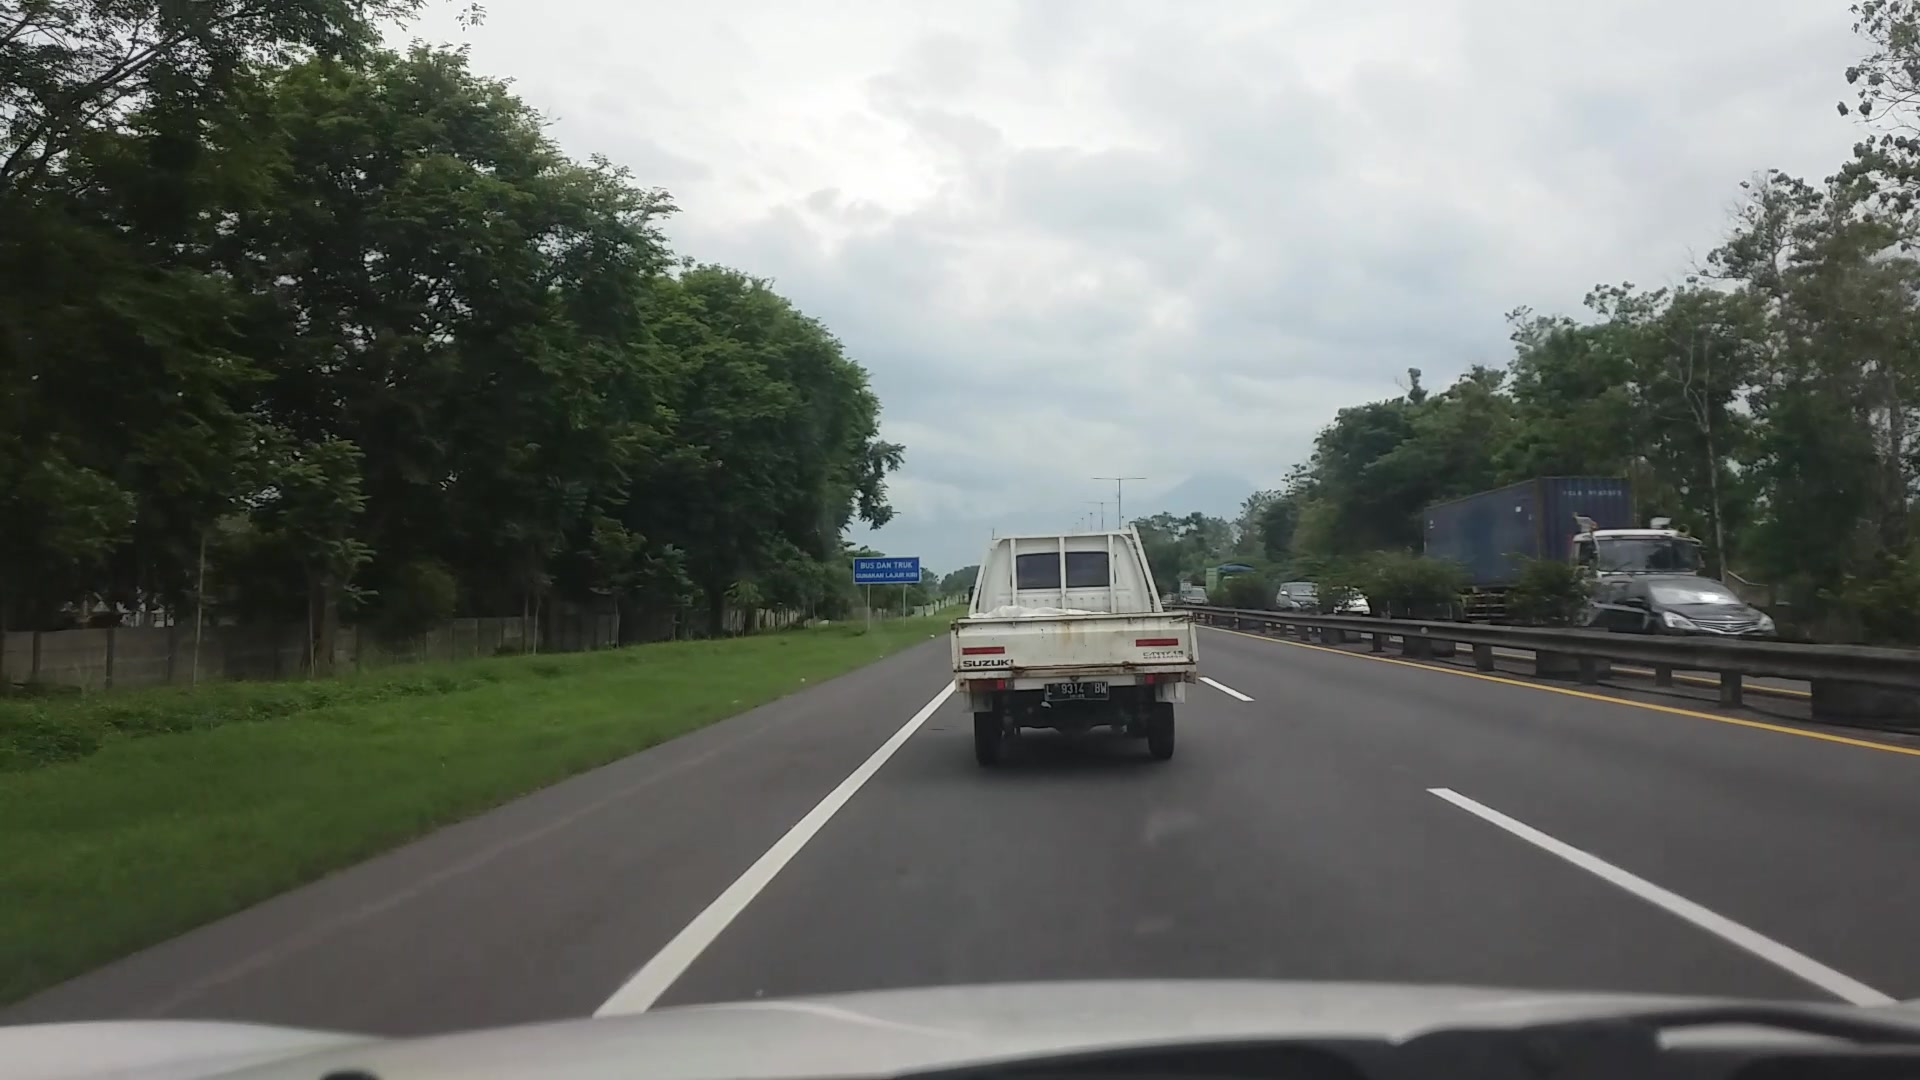plate_positive: (1044, 680, 1108, 702)
